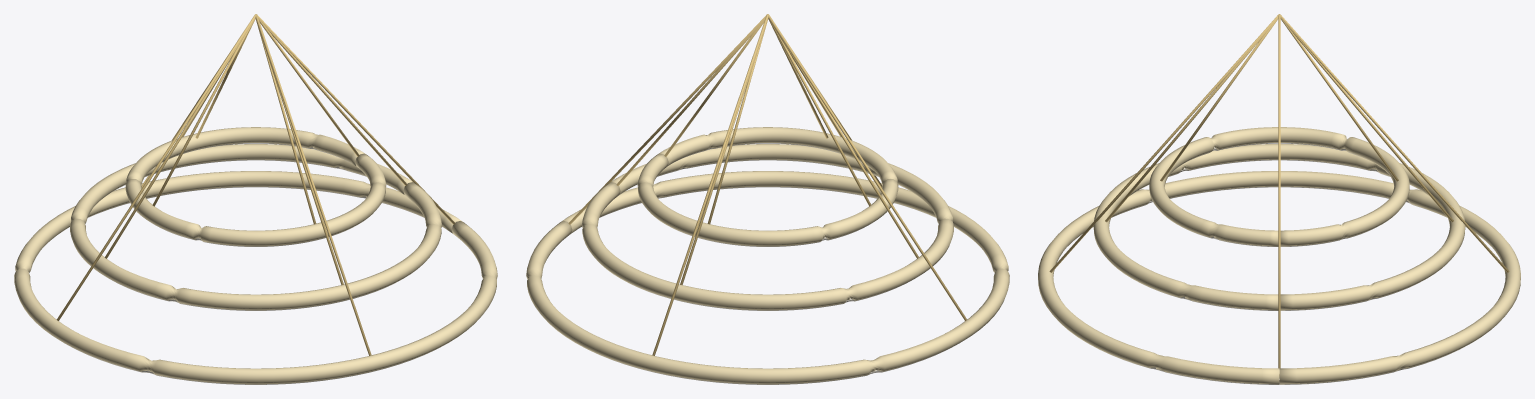
File: suspended-halo.glb
3 views of the same model, side by side, from view 1: azimuth 30°, elevation 25°; view 2: azimuth 150°, elevation 25°; view 3: azimuth 270°, elevation 25° (orthographic).
Visible parts, largest first — view 1: halo-rings-0, suspension-2, light-diffuser-1; view 2: halo-rings-0, suspension-2, light-diffuser-1; view 3: halo-rings-0, suspension-2, light-diffuser-1.
Part boxes in pixels (<box>): halo-rings-0: <box>14,127,497,384</box>; suspension-2: <box>56,14,455,355</box>; light-diffuser-1: <box>64,143,434,384</box>; halo-rings-0: <box>526,127,1009,384</box>; suspension-2: <box>568,14,967,355</box>; light-diffuser-1: <box>589,143,959,384</box>; halo-rings-0: <box>1038,127,1520,384</box>; suspension-2: <box>1049,14,1509,375</box>; light-diffuser-1: <box>1099,143,1459,384</box>.
Bounding box in the file's own units: 2.17 × 1.34 × 2.17.
